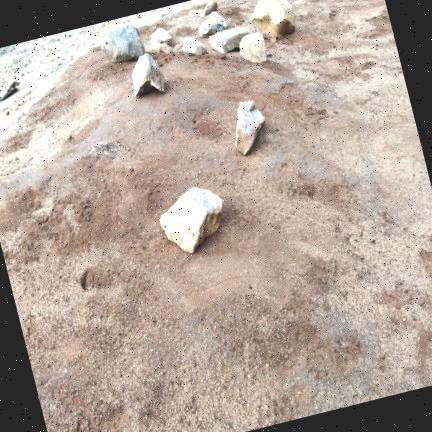Rocks: (161, 188, 223, 253), (251, 0, 295, 39), (102, 24, 145, 62), (235, 101, 265, 154), (133, 53, 165, 96), (210, 27, 249, 53), (240, 33, 267, 62), (199, 18, 224, 37), (183, 37, 207, 55), (152, 28, 172, 45), (210, 12, 228, 28), (152, 43, 172, 53), (205, 1, 218, 15)
